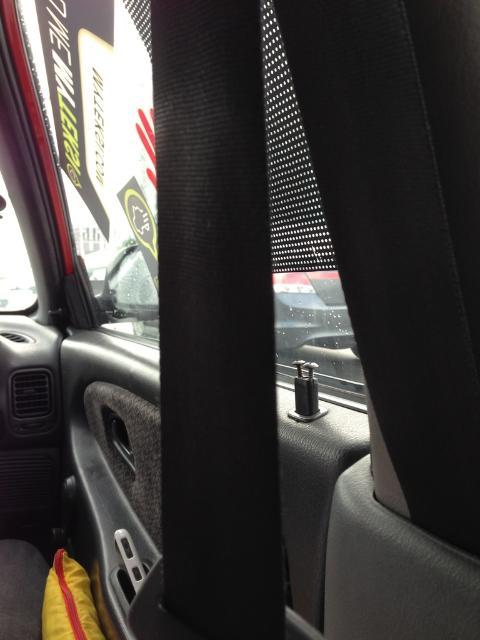Seatbelt: (153, 1, 282, 640)
